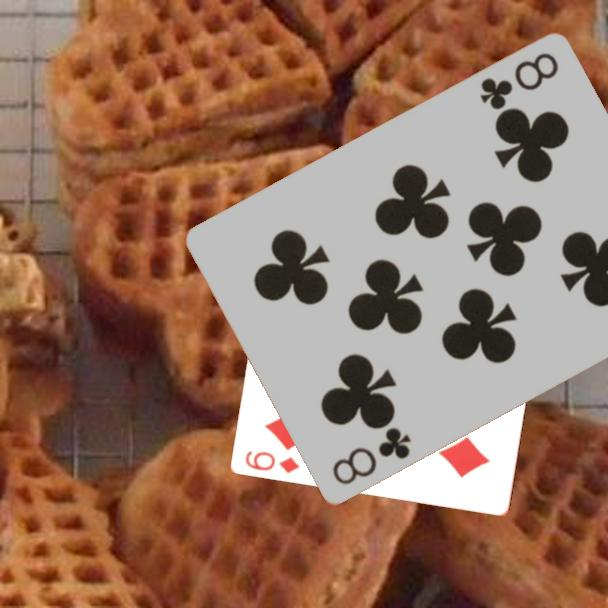c08: (328, 424, 414, 489), (476, 49, 562, 114)
d06: (242, 447, 303, 476)
